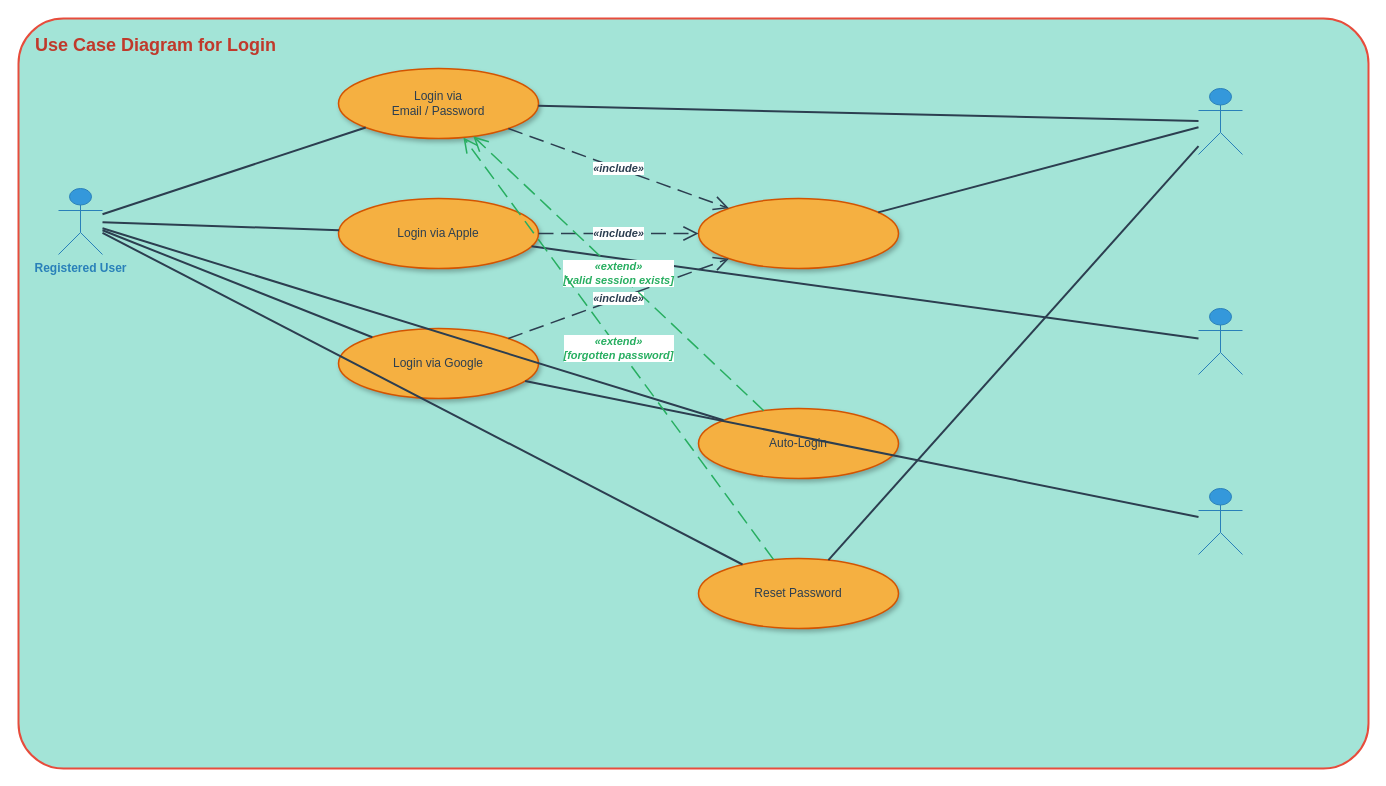
Image size: 1386x786. Some labels were removed from this diagram. The centre of each missing label's shape, as x and y in pixels:
Apple ID: point 1220,341
Google Accounts: point 1220,521
Load Post-Login Data: point 799,234
Supabase Auth: point 1220,121
